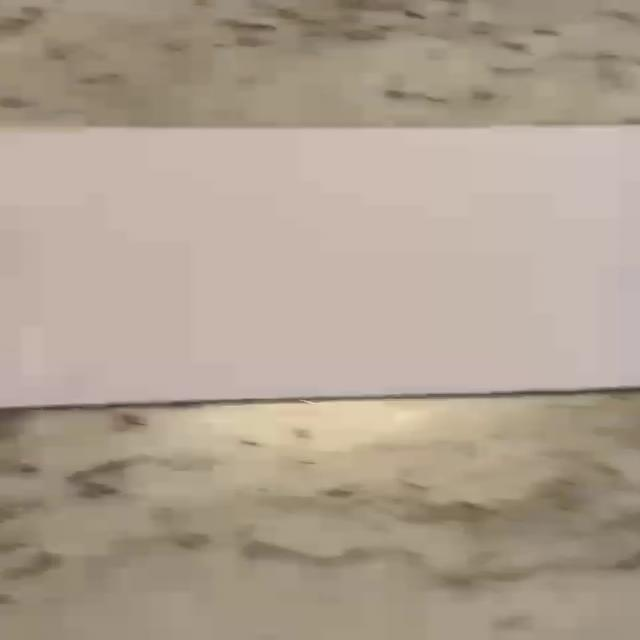road: (3, 125, 639, 407)
